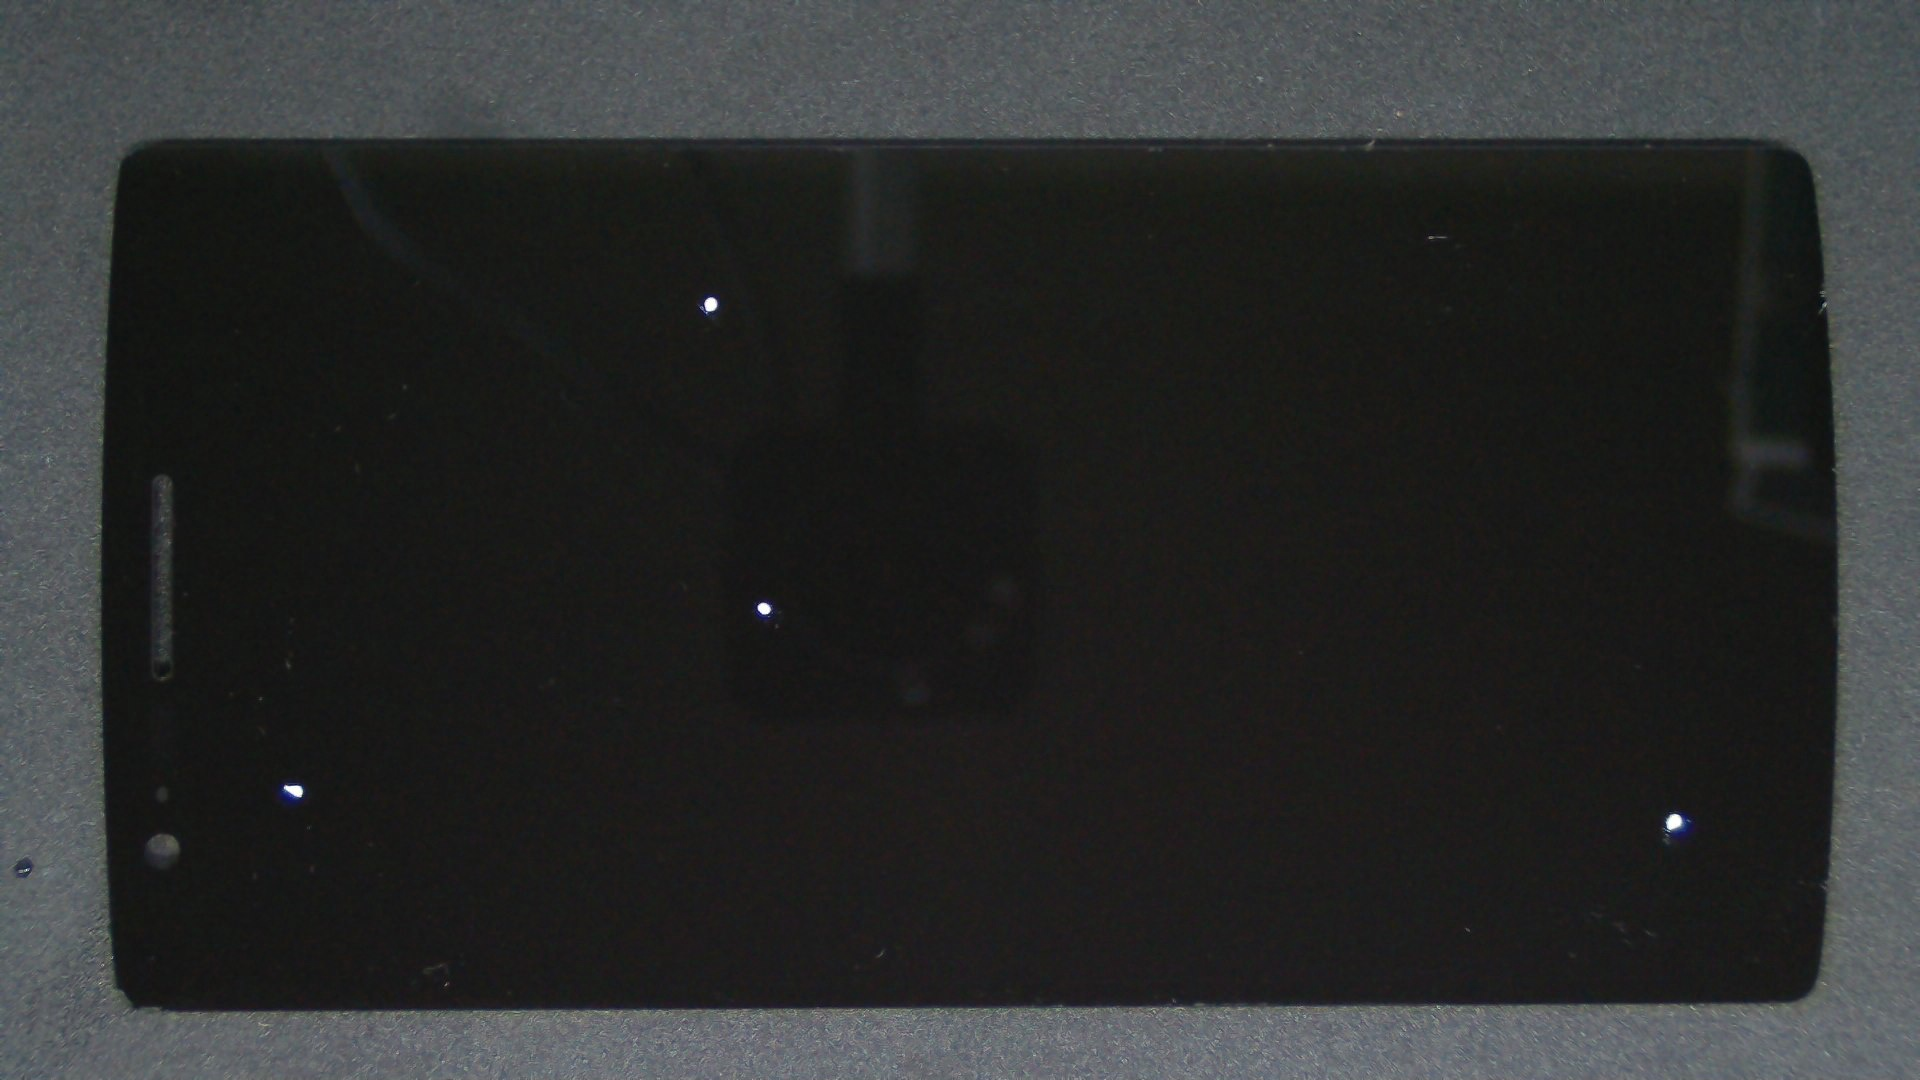oil: (839, 405, 1920, 1080), (382, 298, 1138, 902), (357, 146, 1069, 443), (145, 392, 431, 1080)
